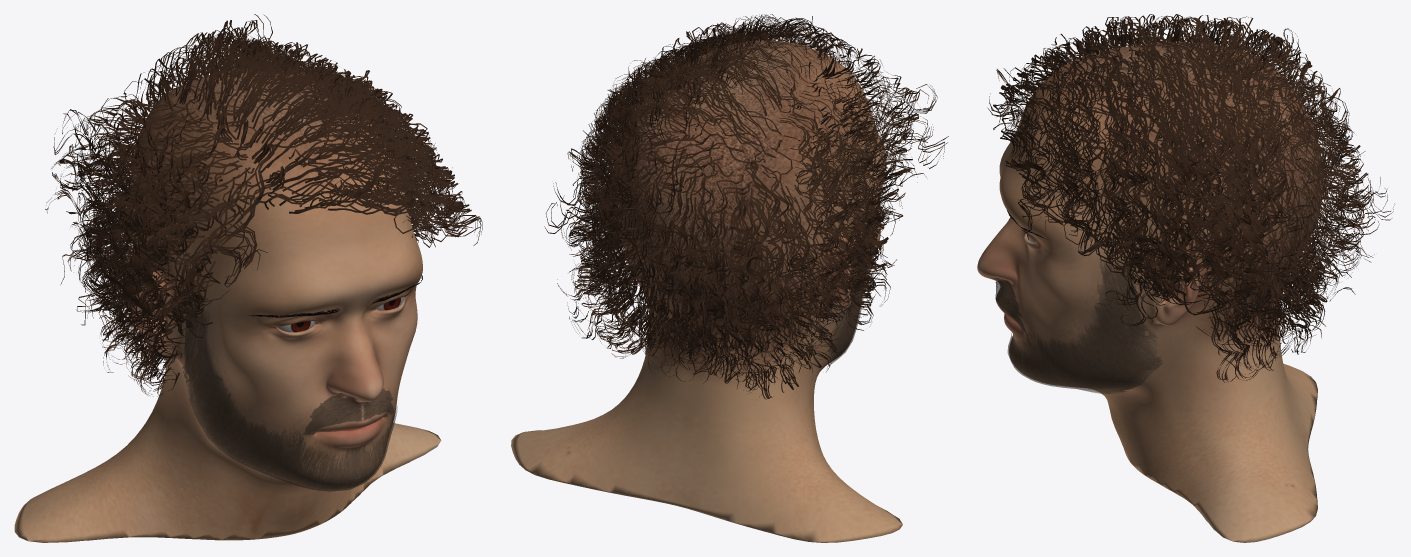
Rendered from street01-head-groom.glb.
3 views of the same model, side by side, from view 1: azimuth 30°, elevation 25°; view 2: azimuth 150°, elevation 25°; view 3: azimuth 270°, elevation 25° (orthographic). The views are drawn at different scales.
Parts seen in each view (by area): view 1: Street01_Authored_EditableBody_Runtime, Street01_Bystedt_CurlyGroom_Runtime, Street01_grinsegold_full_beard_Runtime, Street01_grinsegold_moustache_Runtime; view 2: Street01_Bystedt_CurlyGroom_Runtime, Street01_Authored_EditableBody_Runtime, Street01_grinsegold_full_beard_Runtime; view 3: Street01_Bystedt_CurlyGroom_Runtime, Street01_Authored_EditableBody_Runtime, Street01_grinsegold_full_beard_Runtime, Street01_grinsegold_moustache_Runtime.
Part boxes in pixels (x1=…): Street01_Authored_EditableBody_Runtime: x1=14, y1=67, x2=441, y2=542; Street01_Bystedt_CurlyGroom_Runtime: x1=45, y1=14, x2=482, y2=396; Street01_grinsegold_full_beard_Runtime: x1=183, y1=306, x2=397, y2=491; Street01_grinsegold_moustache_Runtime: x1=302, y1=388, x2=393, y2=435; Street01_Bystedt_CurlyGroom_Runtime: x1=544, y1=14, x2=948, y2=399; Street01_Authored_EditableBody_Runtime: x1=511, y1=40, x2=902, y2=542; Street01_grinsegold_full_beard_Runtime: x1=827, y1=232, x2=868, y2=363; Street01_Bystedt_CurlyGroom_Runtime: x1=987, y1=14, x2=1394, y2=382; Street01_Authored_EditableBody_Runtime: x1=977, y1=42, x2=1322, y2=542; Street01_grinsegold_full_beard_Runtime: x1=1007, y1=259, x2=1162, y2=394; Street01_grinsegold_moustache_Runtime: x1=995, y1=280, x2=1026, y2=332.
Bounding box in the file's own units: 0.2885 × 0.3039 × 0.2722.
Materials: 6 (5 with a texture image).
